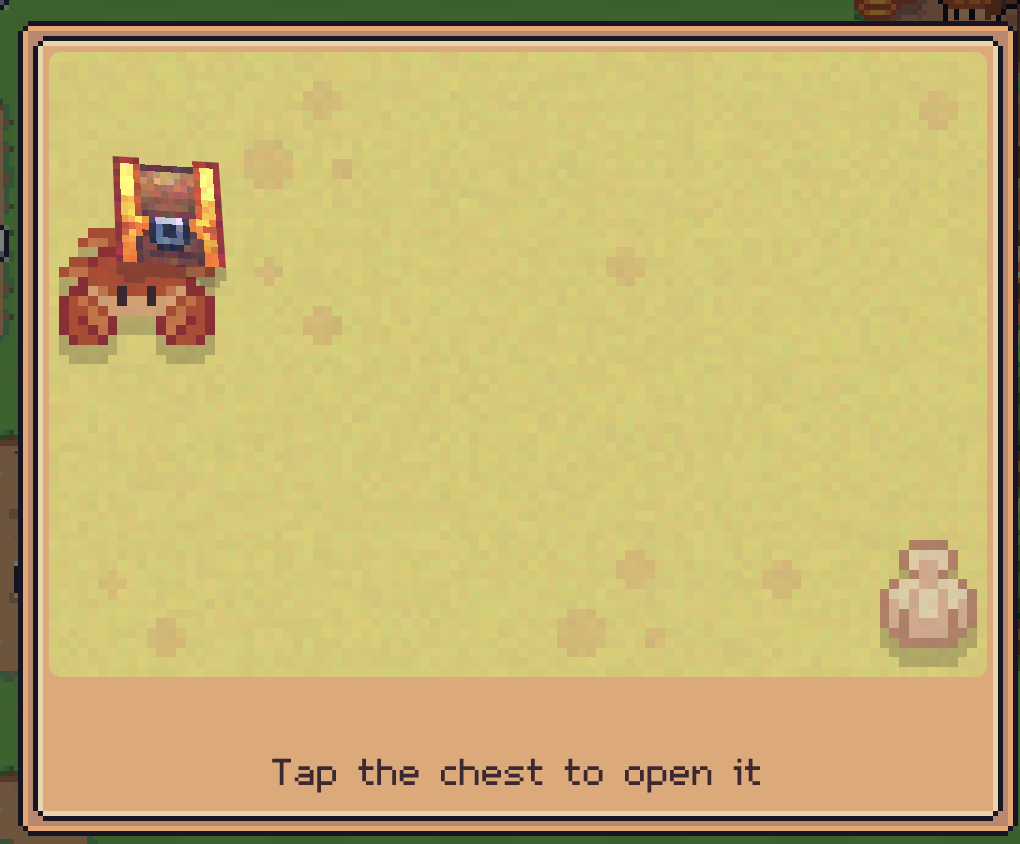capcha_chest: (112, 155, 229, 275)
